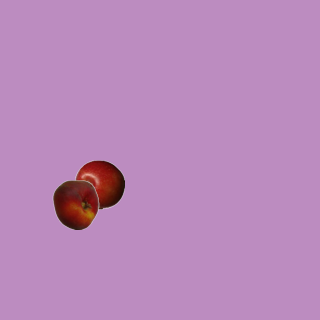Apple Braeburn: (74, 159, 124, 209)
Nectarine Flat: (50, 179, 100, 229)
